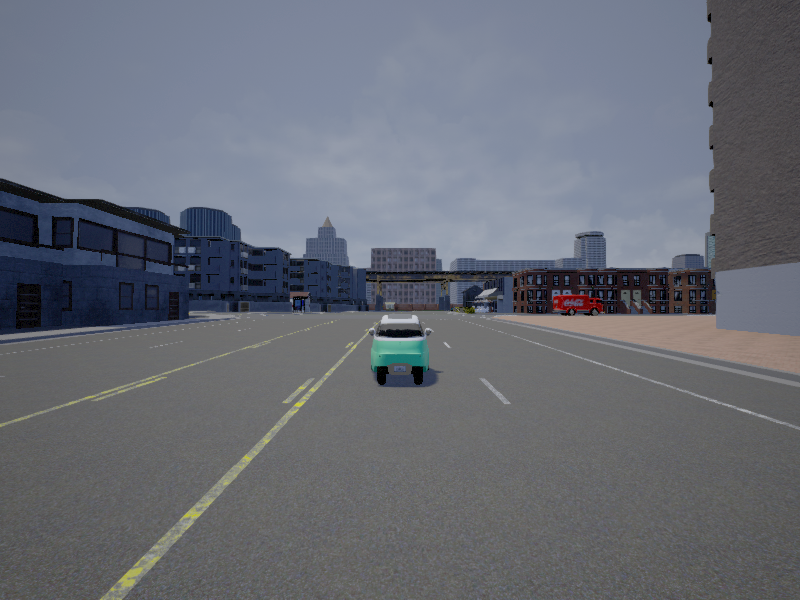Benign: (370, 314, 432, 385), (552, 295, 605, 317)
